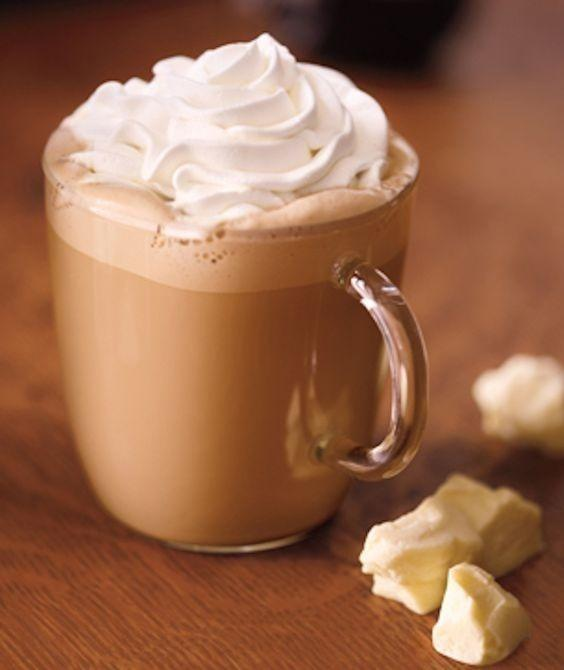glass-mug: (36, 37, 434, 567)
